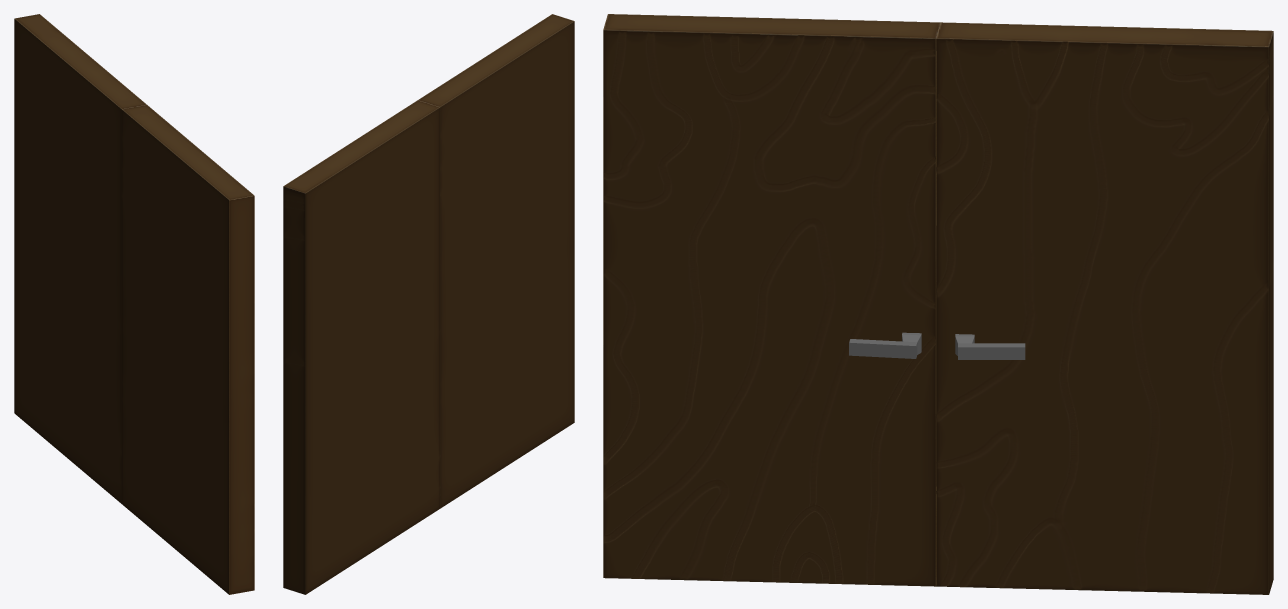
Rendered from DoorOffice.fbx.
3 views of the same model, side by side, from view 1: azimuth 30°, elevation 25°; view 2: azimuth 150°, elevation 25°; view 3: azimuth 270°, elevation 25° (orthographic). The views are drawn at different scales.
Visible parts, largest first — view 1: Door left, Door right; view 2: Door right, Door left; view 3: Door right, Door left.
Part boxes in pixels (x1,y1,x2,y2): Door left: (121,105,254,594); Door right: (14,14,146,503); Door right: (283,100,440,594); Door left: (418,14,574,508); Door right: (936,22,1273,594); Door left: (603,14,940,586).
Bounding box in the file's own units: 44.41 × 317 × 351.
Materials: 3 (2 with a texture image).
